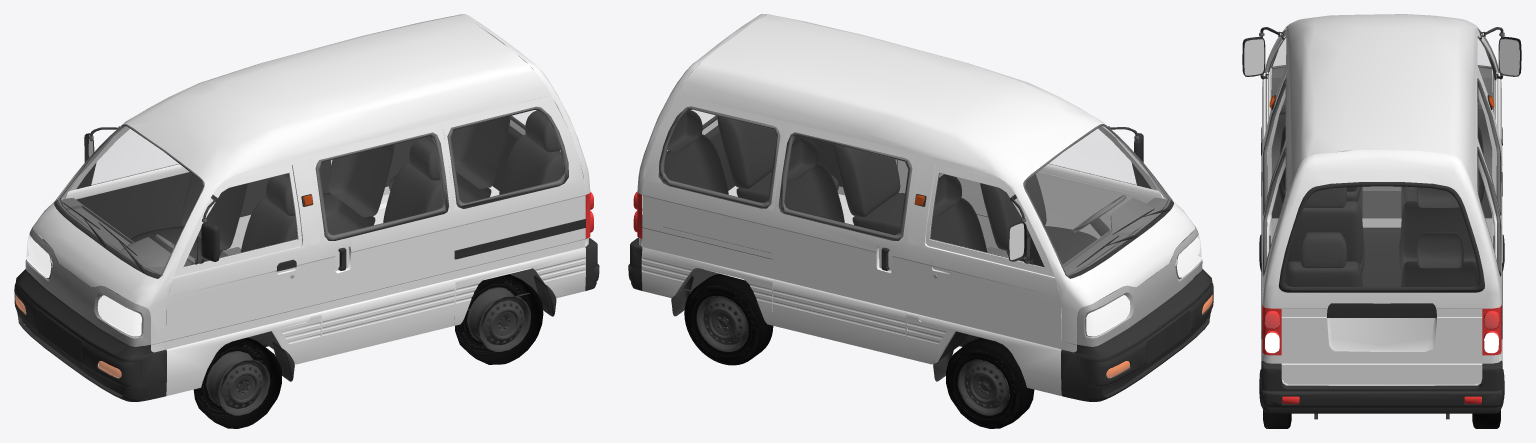
File: damas.glb
3 views of the same model, side by side, from view 1: azimuth 30°, elevation 25°; view 2: azimuth 150°, elevation 25°; view 3: azimuth 270°, elevation 25° (orthographic). The views are drawn at different scales.
Visible parts, largest first — view 1: Object_13, Object_12, Object_17, Object_15, Object_19, Object_14, Object_11, Object_22, Object_27, Object_21, Object_25, Object_18 (+2 smaller); view 2: Object_13, Object_12, Object_17, Object_15, Object_19, Object_11, Object_22, Object_21, Object_18, Object_25, Object_23, Object_27 (+3 smaller); view 3: Object_13, Object_12, Object_17, Object_15, Object_19, Object_22, Object_14, Object_18, Object_2, Object_3, Object_23, Object_11 (+2 smaller).
Boxes of the visible parts, bbox=[...] form: Object_13: bbox=[32, 15, 588, 364]; Object_12: bbox=[64, 14, 590, 395]; Object_17: bbox=[26, 110, 563, 335]; Object_15: bbox=[131, 110, 563, 264]; Object_19: bbox=[14, 115, 599, 401]; Object_14: bbox=[76, 125, 563, 239]; Object_11: bbox=[193, 274, 543, 428]; Object_22: bbox=[29, 106, 568, 337]; Object_27: bbox=[206, 197, 531, 415]; Object_21: bbox=[25, 228, 294, 346]; Object_25: bbox=[220, 300, 524, 408]; Object_18: bbox=[35, 197, 241, 346]; Object_13: bbox=[639, 14, 1195, 364]; Object_12: bbox=[637, 14, 1163, 395]; Object_17: bbox=[664, 110, 1201, 335]; Object_15: bbox=[664, 110, 1097, 264]; Object_19: bbox=[628, 115, 1213, 401]; Object_11: bbox=[684, 273, 1034, 428]; Object_22: bbox=[658, 106, 1198, 336]; Object_21: bbox=[933, 227, 1202, 346]; Object_18: bbox=[987, 195, 1192, 343]; Object_25: bbox=[703, 300, 1005, 408]; Object_23: bbox=[642, 195, 1212, 377]; Object_27: bbox=[696, 197, 1013, 415]; Object_13: bbox=[1261, 14, 1502, 385]; Object_12: bbox=[1261, 29, 1502, 384]; Object_17: bbox=[1266, 38, 1497, 286]; Object_15: bbox=[1279, 126, 1484, 286]; Object_19: bbox=[1242, 36, 1521, 413]; Object_22: bbox=[1259, 32, 1504, 276]; Object_14: bbox=[1267, 166, 1496, 286]; Object_18: bbox=[1271, 67, 1492, 217]; Object_2: bbox=[1244, 38, 1519, 75]; Object_3: bbox=[1262, 305, 1501, 403]; Object_23: bbox=[1265, 312, 1498, 352]; Object_11: bbox=[1263, 361, 1500, 428].
Size of what is drawn, in the model's own units: 8.64 by 4.78 by 4.04.
Materials: 15 (1 with a texture image).
